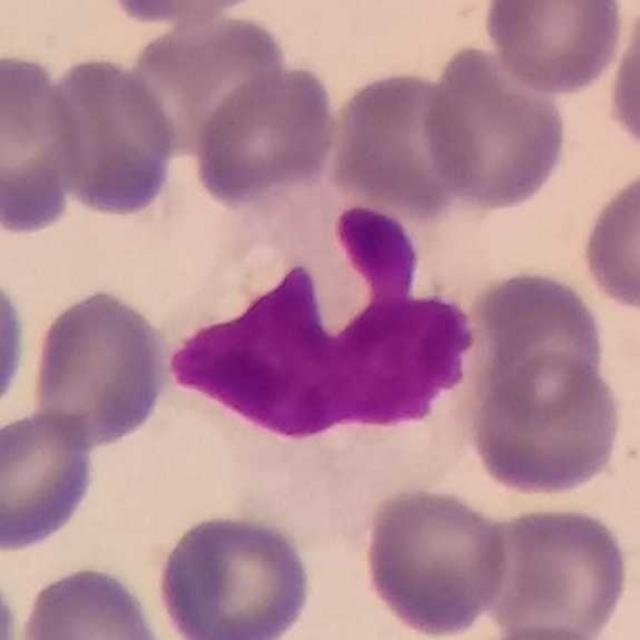Monocyte: (166, 174, 489, 526)
RBC: (417, 38, 572, 215), (358, 481, 514, 639), (465, 349, 628, 500), (26, 284, 172, 450), (324, 66, 483, 218), (462, 265, 610, 425), (44, 52, 182, 220), (188, 60, 343, 208), (479, 501, 640, 639), (135, 13, 288, 156), (152, 508, 316, 640), (0, 47, 88, 237), (0, 406, 100, 554), (480, 0, 628, 98), (15, 562, 169, 640), (577, 160, 640, 319), (604, 2, 640, 162), (0, 264, 31, 428), (97, 0, 268, 29)
